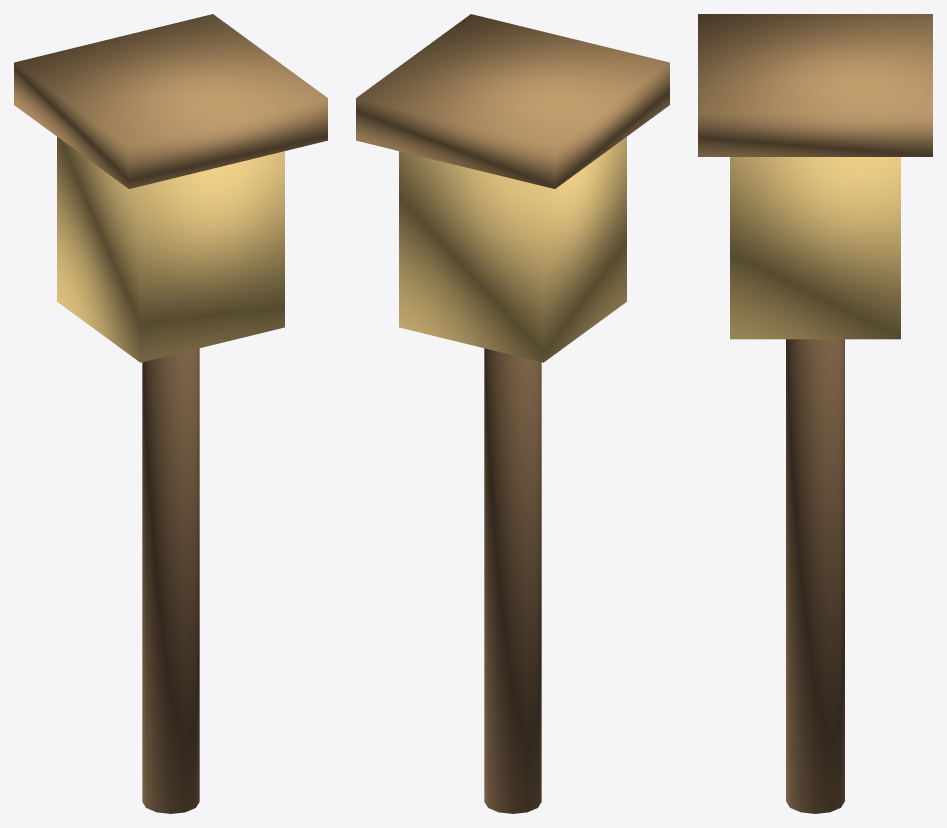
File: prop-lantern.glb
The picture shows the model from 3 angles, left to right: view 1: azimuth 30°, elevation 25°; view 2: azimuth 150°, elevation 25°; view 3: azimuth 270°, elevation 25°; orthographic projection. The views are drawn at different scales.
Parts seen in each view (by area): view 1: Amber lantern, Lantern roof, Lantern post; view 2: Amber lantern, Lantern roof, Lantern post; view 3: Lantern roof, Amber lantern, Lantern post.
Part boxes in pixels (<box>): Amber lantern: <box>57,137,284,362</box>; Lantern roof: <box>14,14,327,188</box>; Lantern post: <box>142,348,199,813</box>; Amber lantern: <box>399,137,626,362</box>; Lantern roof: <box>356,14,669,188</box>; Lantern post: <box>484,348,541,813</box>; Lantern roof: <box>698,14,932,156</box>; Amber lantern: <box>730,157,900,339</box>; Lantern post: <box>786,339,844,813</box>.
Size of the model in its own units: 0.44 by 1.53 by 0.44.
